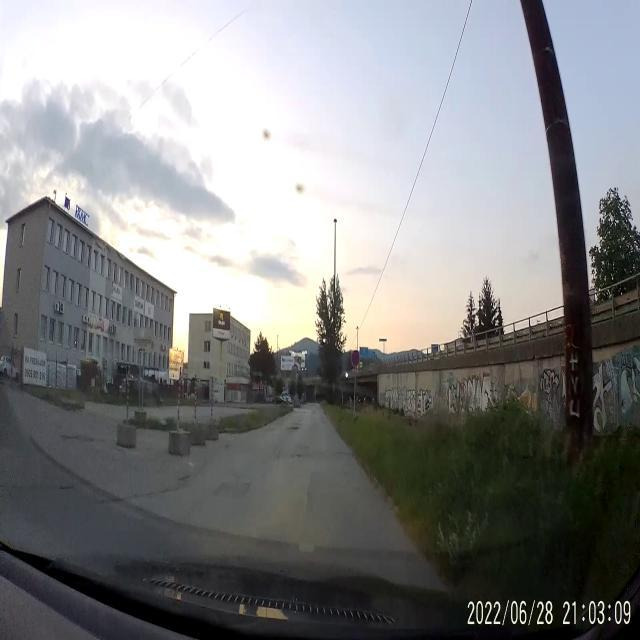Pothole: (214, 478, 247, 500), (286, 424, 300, 436), (291, 453, 303, 459)
